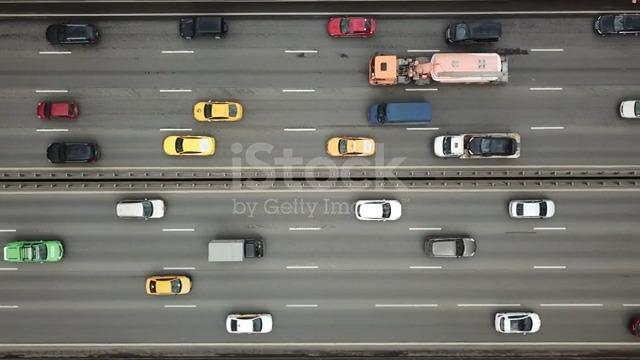Cars: (430, 53, 509, 85), (434, 133, 521, 160), (368, 101, 433, 126), (445, 20, 503, 45), (4, 240, 64, 264), (46, 23, 101, 46), (47, 141, 101, 164), (180, 16, 229, 40), (193, 100, 244, 123), (163, 135, 216, 157), (354, 199, 402, 222), (326, 136, 376, 158), (327, 17, 377, 38), (595, 14, 640, 37), (146, 275, 193, 296), (37, 99, 80, 121), (619, 100, 640, 119)
